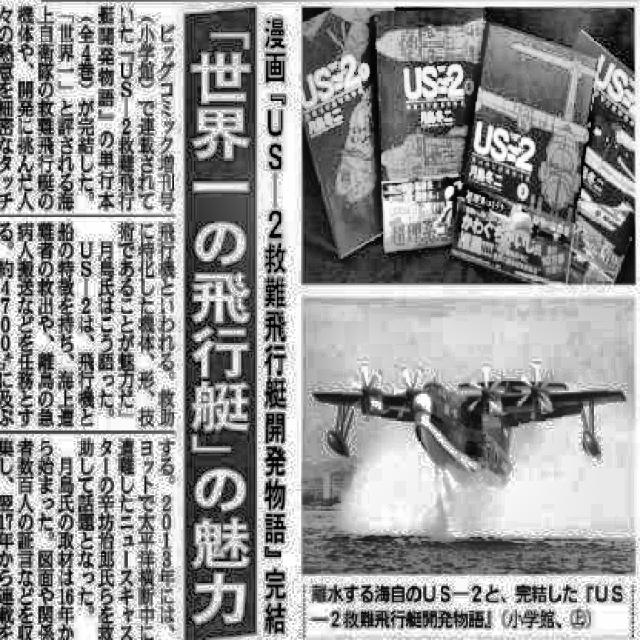US2: (312, 360, 626, 489)
